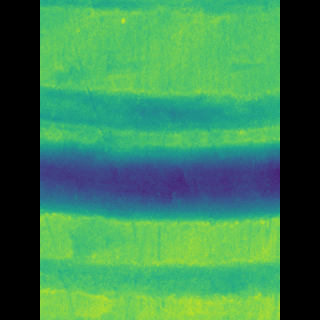Loch: (69, 80, 249, 320)
